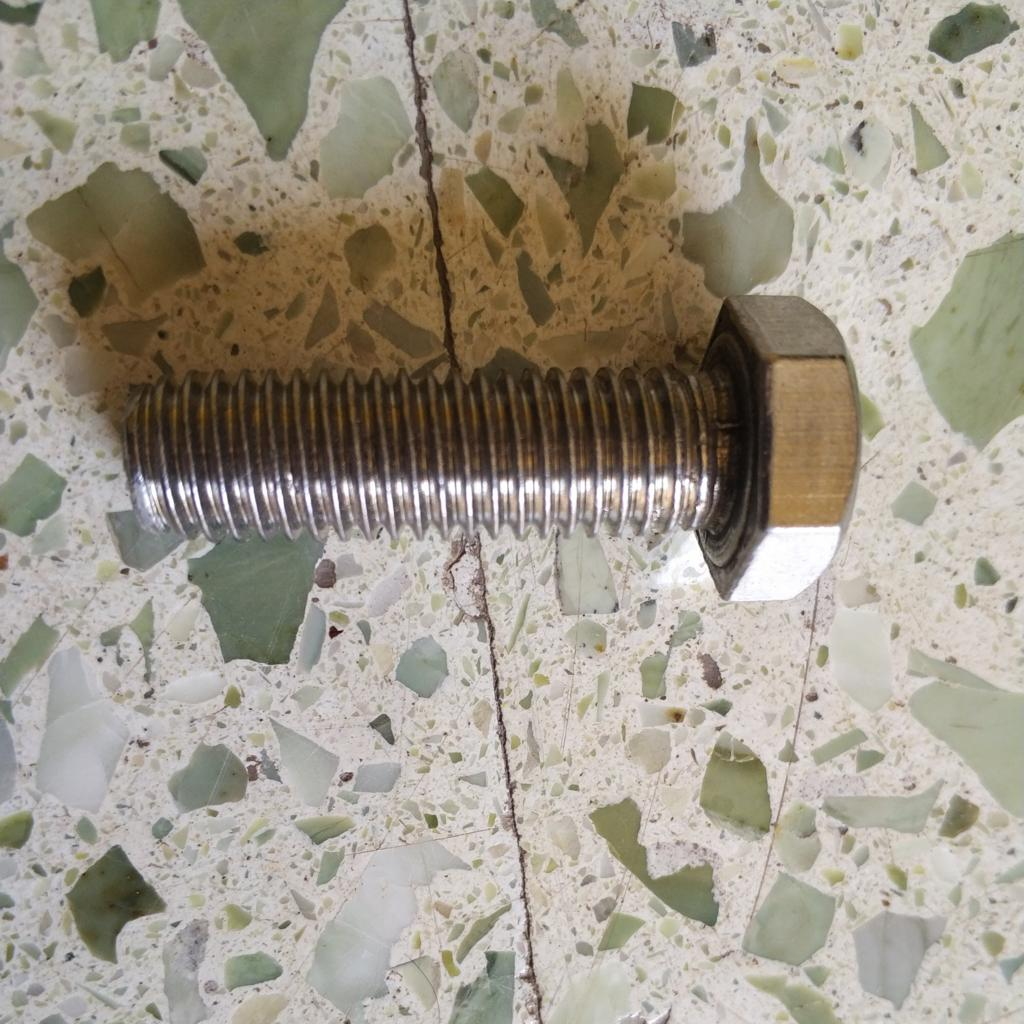screwtype2silver: (116, 281, 868, 606)
